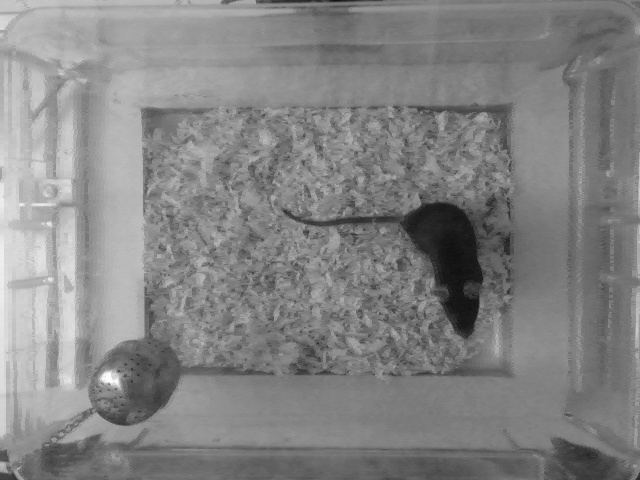mice: (281, 200, 486, 341)
